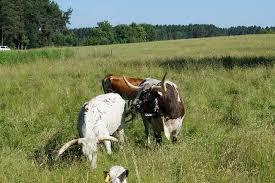cow: (76, 93, 125, 170), (138, 78, 185, 140), (103, 74, 148, 103), (104, 167, 130, 183)
